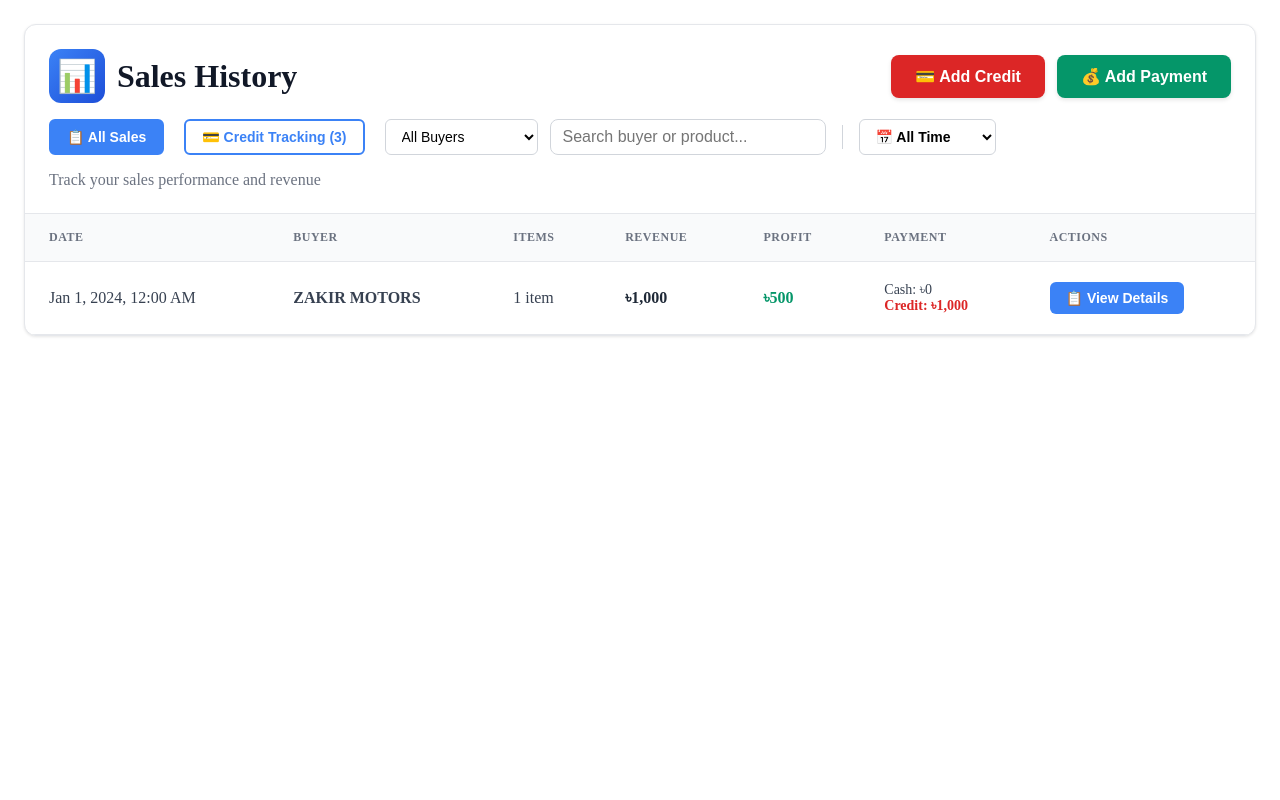
Test case: SalesHistory Component › Credit Tracking View › should show credit tracking view when credit tracking button is clicked
Expected: the button "📋 All Sales" is shown, [49, 119, 164, 155]
Click credit tracking button - the text is split, so use a partial match
Click the button "💳 Credit Tracking (3)".
click(274, 137)  # box [184, 119, 364, 155]
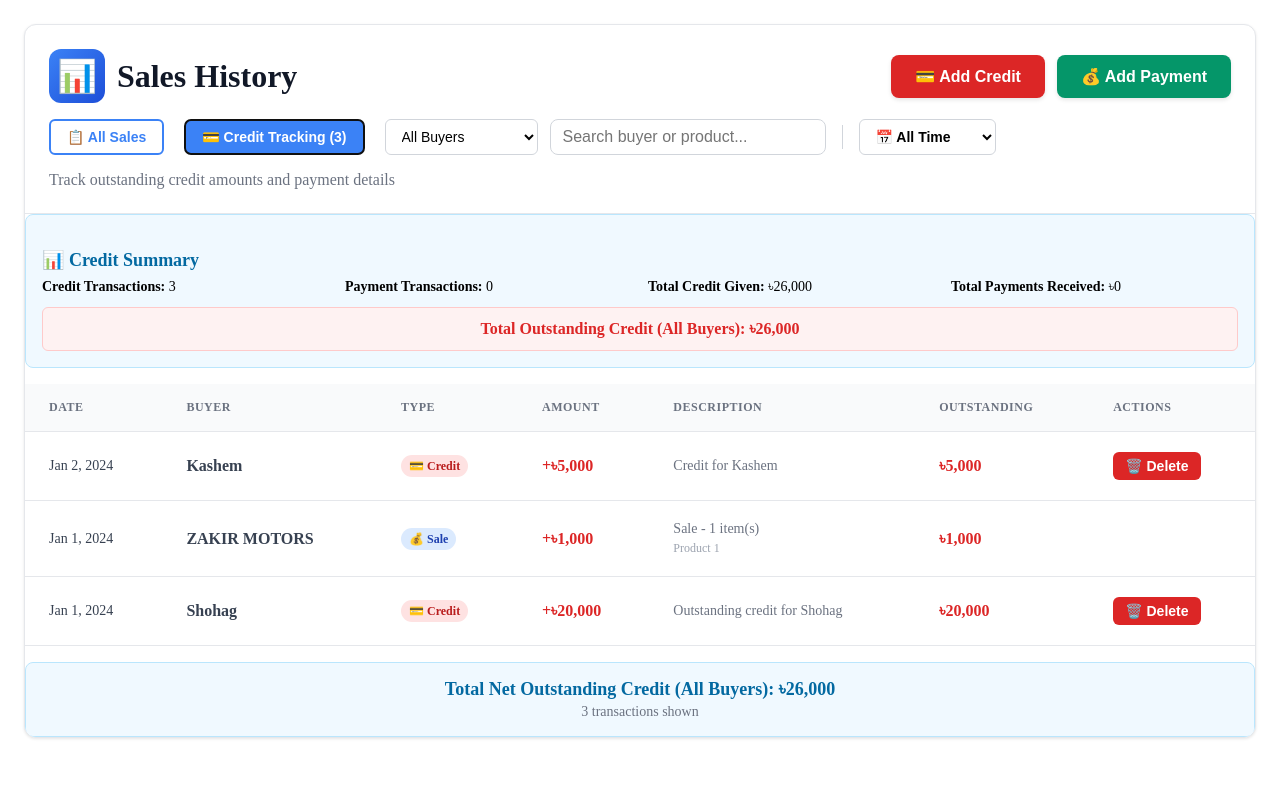
Expected: the text "Track outstanding credit amounts and payment details" is shown, [49, 171, 395, 188]
